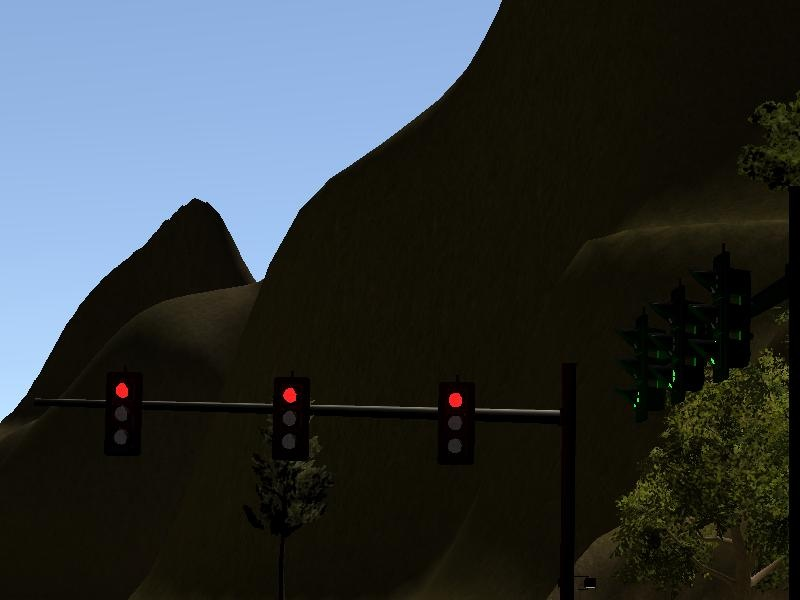RED: (103, 373, 147, 448), (434, 382, 478, 457), (270, 378, 305, 451)
